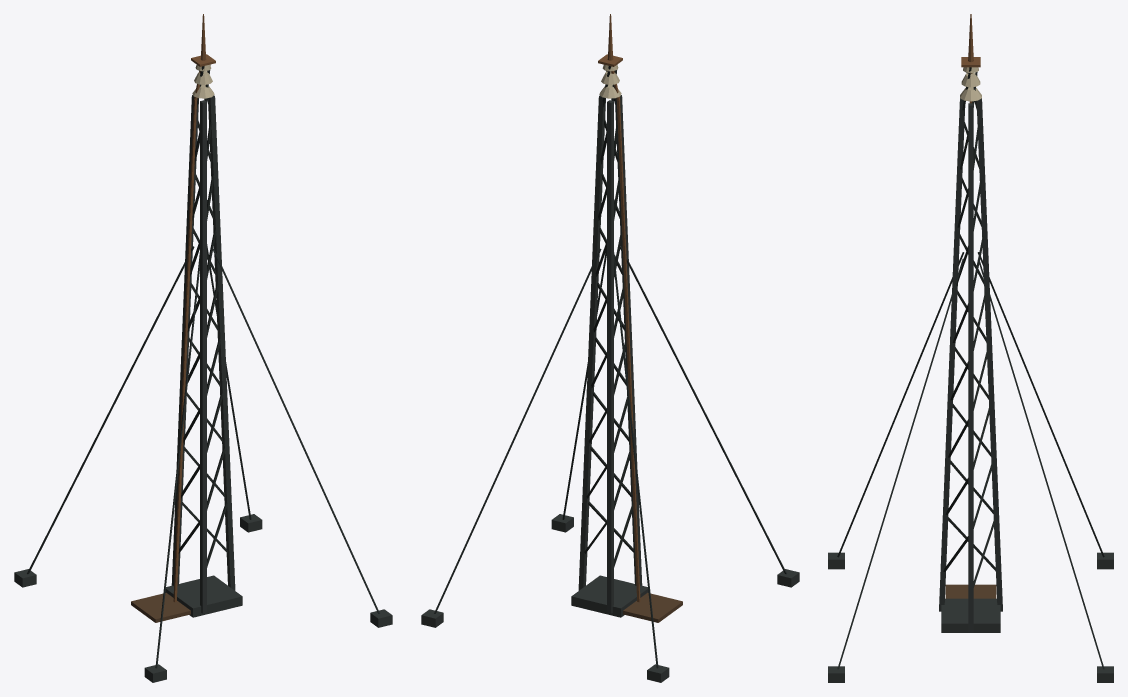
File: w3_lightning_rod.glb
3 renders of one model, left to right at view 1: azimuth 30°, elevation 25°; view 2: azimuth 150°, elevation 25°; view 3: azimuth 270°, elevation 25°, orthographic. The views are drawn at different scales.
Visible parts, largest first — view 1: LightningRod; view 2: LightningRod; view 3: LightningRod.
Part boxes in pixels (<box>): LightningRod: <box>14,14,392,682</box>; LightningRod: <box>421,14,799,682</box>; LightningRod: <box>828,14,1113,682</box>.
Size of the model in its own units: 13.53 by 31.75 by 13.53.
